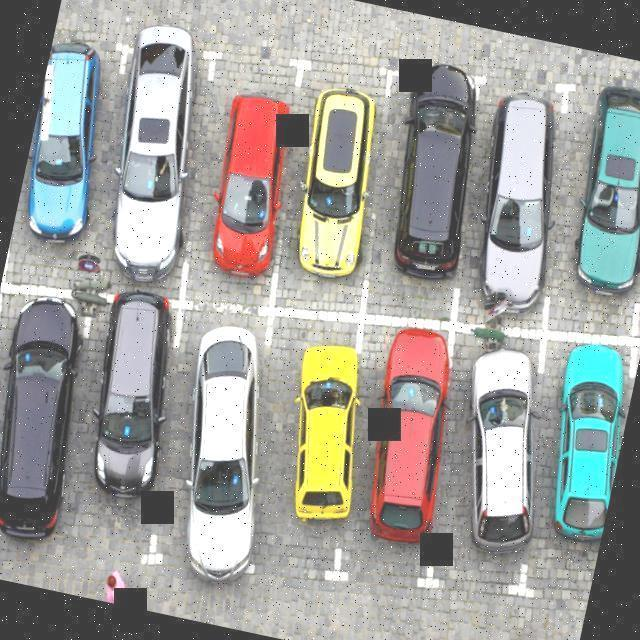space-occupied: (203, 298, 388, 592), (302, 305, 485, 599), (29, 282, 210, 573), (330, 54, 511, 337), (119, 292, 299, 576), (239, 58, 418, 341), (154, 46, 334, 320), (64, 37, 242, 314), (420, 64, 594, 345), (399, 312, 572, 594), (1, 23, 160, 305), (485, 323, 640, 604), (512, 73, 640, 355), (0, 276, 119, 565), (581, 342, 640, 596), (601, 71, 640, 340)
